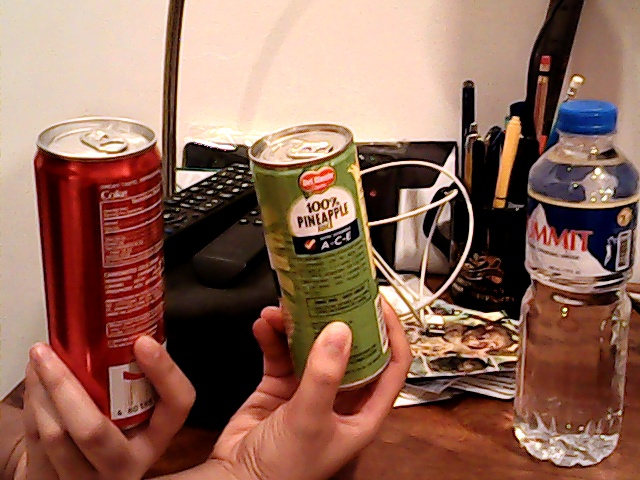Cola: (27, 101, 180, 434)
Pine Juice: (229, 103, 406, 391)
Summit Water: (506, 85, 640, 475)
